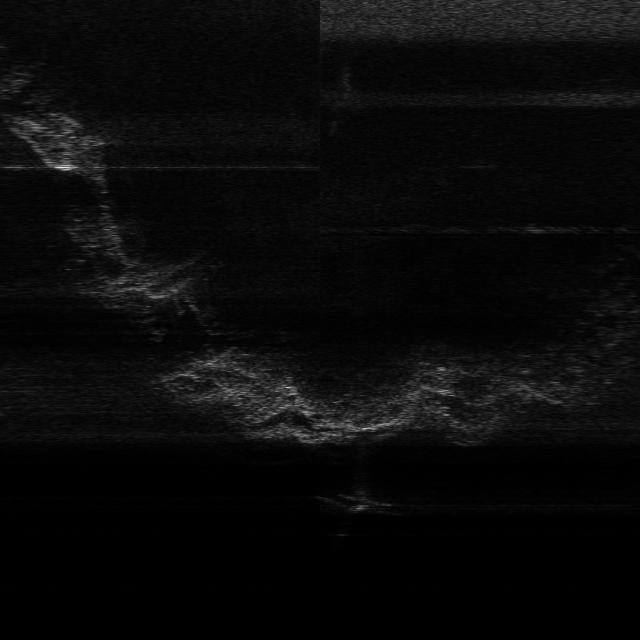plane: (312, 489, 402, 519)
